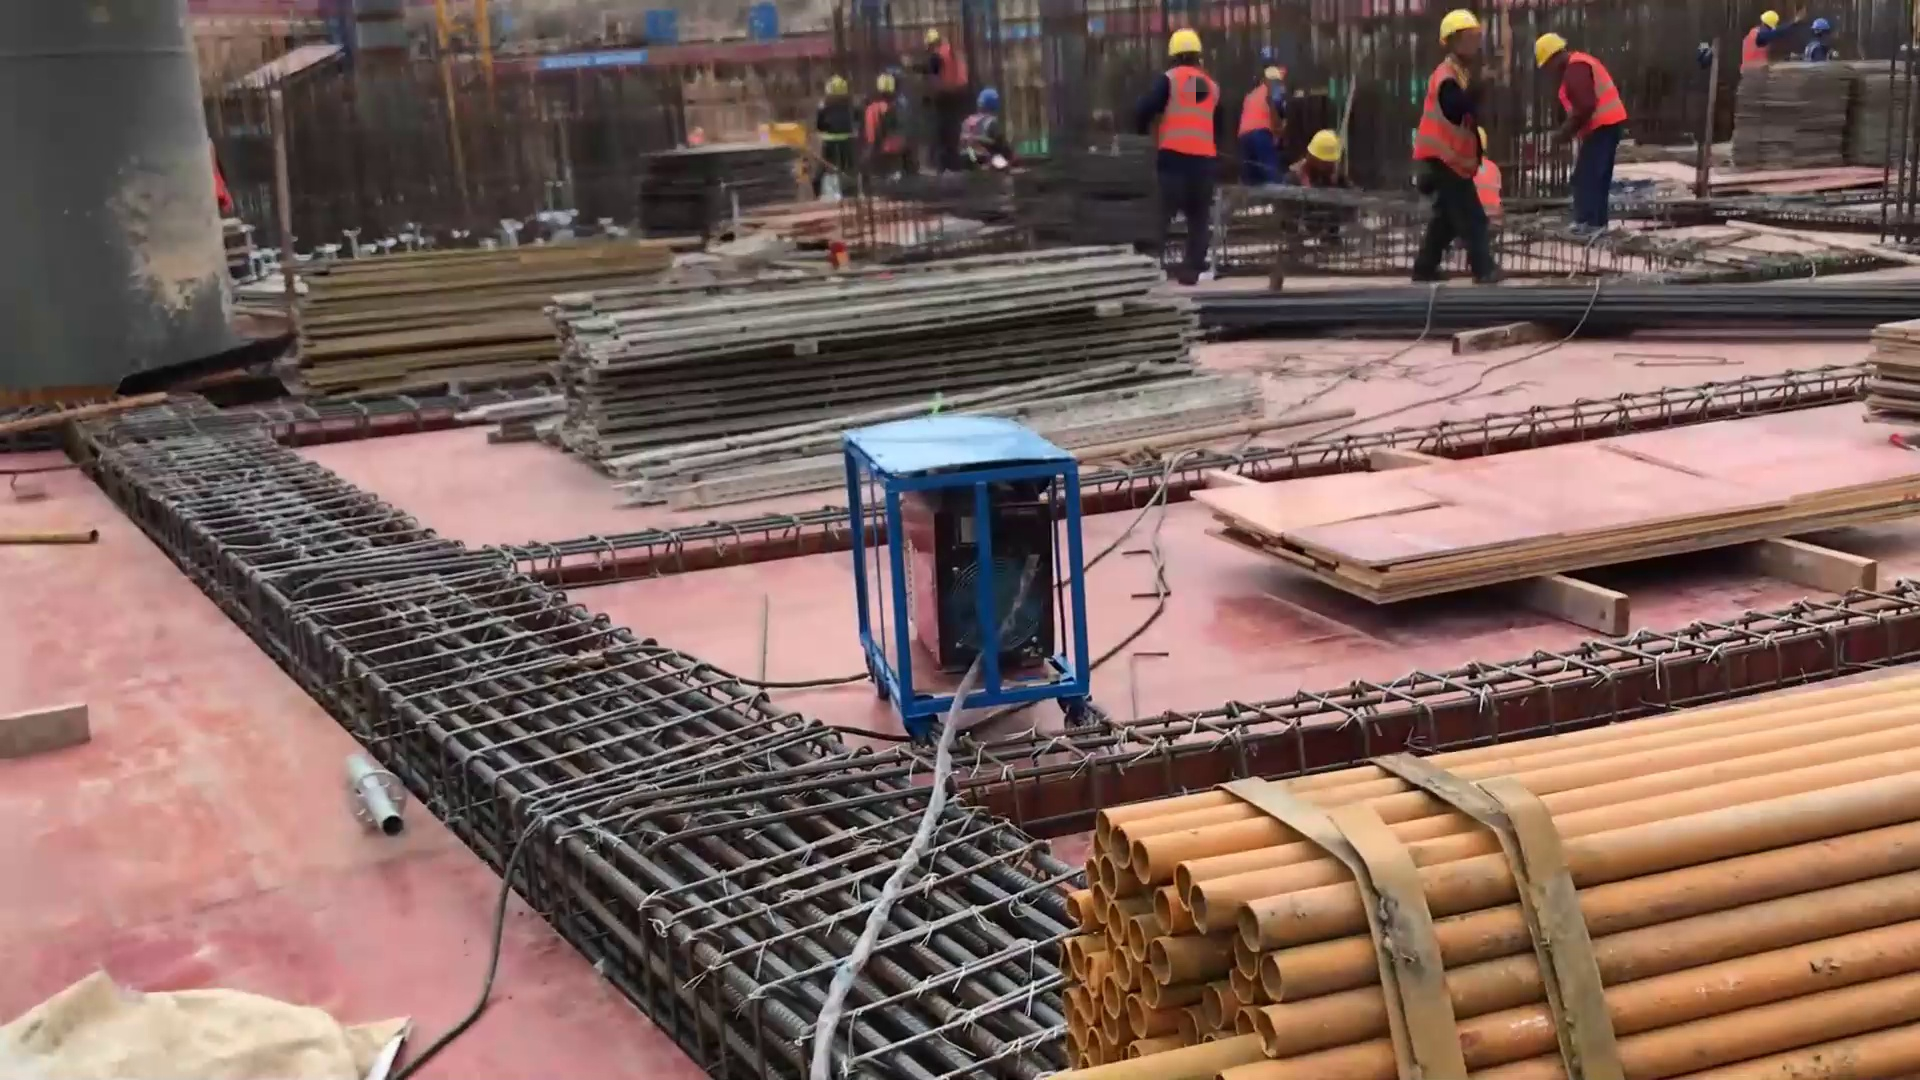board: (1266, 395, 1920, 567), (278, 242, 668, 409), (1736, 61, 1909, 174), (616, 147, 809, 241)
helmet: (1440, 8, 1481, 48), (1529, 31, 1564, 71), (1261, 43, 1287, 81), (1309, 126, 1339, 159), (821, 69, 850, 95), (978, 76, 1008, 101), (1172, 31, 1208, 52), (870, 74, 894, 95), (1474, 115, 1484, 149), (924, 27, 942, 40)
person: (1412, 11, 1506, 286), (1145, 23, 1220, 277), (1533, 24, 1625, 234), (1233, 36, 1285, 183), (865, 69, 921, 182), (812, 75, 861, 192), (1282, 127, 1355, 201), (963, 89, 1018, 178), (920, 25, 969, 104), (1470, 116, 1510, 213), (1737, 18, 1792, 74), (1804, 11, 1845, 56), (688, 121, 705, 145)
rebar: (1196, 276, 1920, 348)
vest: (1430, 62, 1479, 178), (1565, 54, 1626, 133), (1169, 69, 1215, 165), (1292, 164, 1338, 234), (1237, 81, 1282, 140), (205, 124, 231, 206), (957, 116, 1004, 159), (870, 101, 906, 154), (1475, 152, 1504, 211), (935, 46, 971, 87), (822, 100, 854, 143), (1740, 30, 1771, 73), (1800, 38, 1832, 61)
